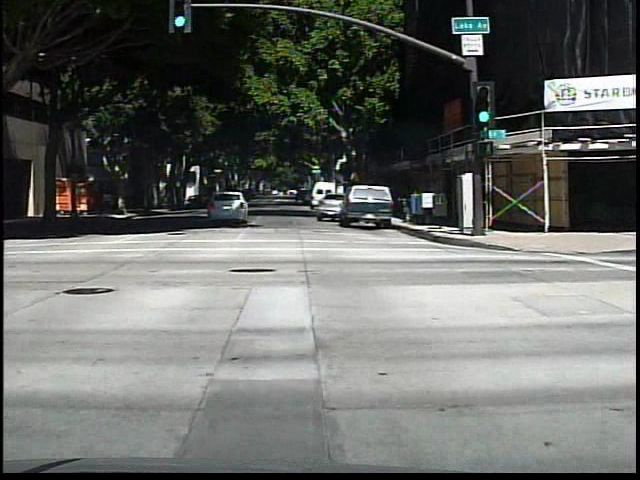person: (97, 184, 114, 219)
